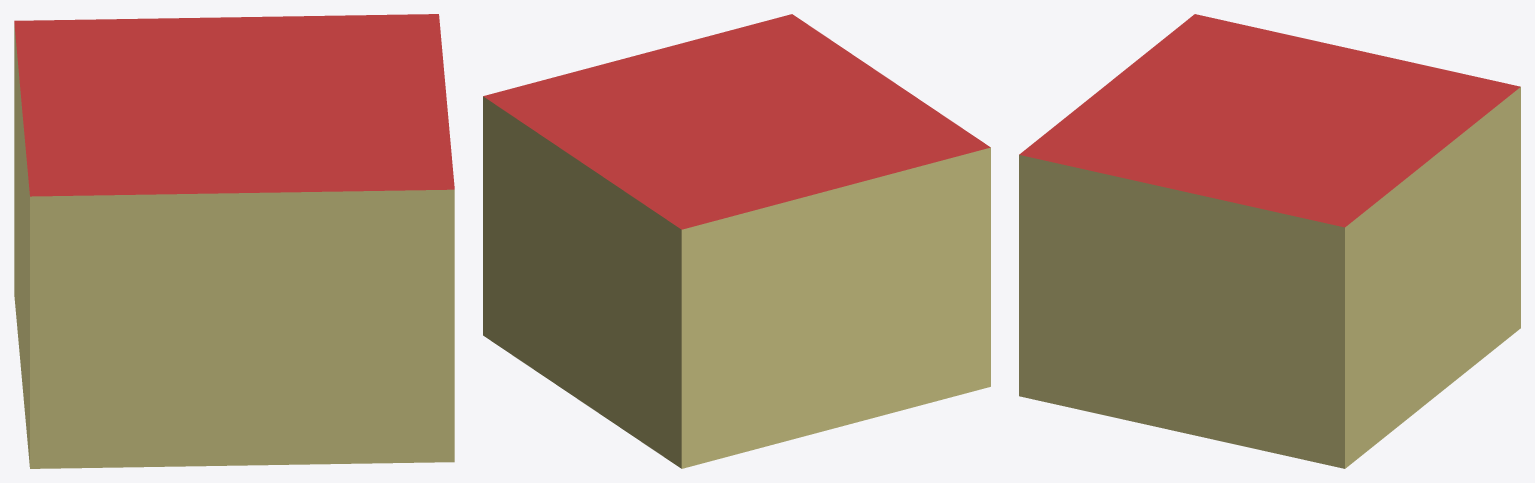
3 renders of one model, left to right at view 1: azimuth 30°, elevation 25°; view 2: azimuth 150°, elevation 25°; view 3: azimuth 270°, elevation 25°, orthographic. The views are drawn at different scales.
Visible parts, largest first — view 1: group_4, group_3; view 2: group_4, group_3; view 3: group_4, group_3.
Boxes of the visible parts, <box> form: group_4: <box>14,24,454,468</box>; group_3: <box>14,14,454,196</box>; group_4: <box>483,96,990,468</box>; group_3: <box>483,14,990,229</box>; group_4: <box>1019,87,1520,468</box>; group_3: <box>1019,14,1520,227</box>.
Size of the model in its own units: 16.42 by 16.31 by 8.66.
